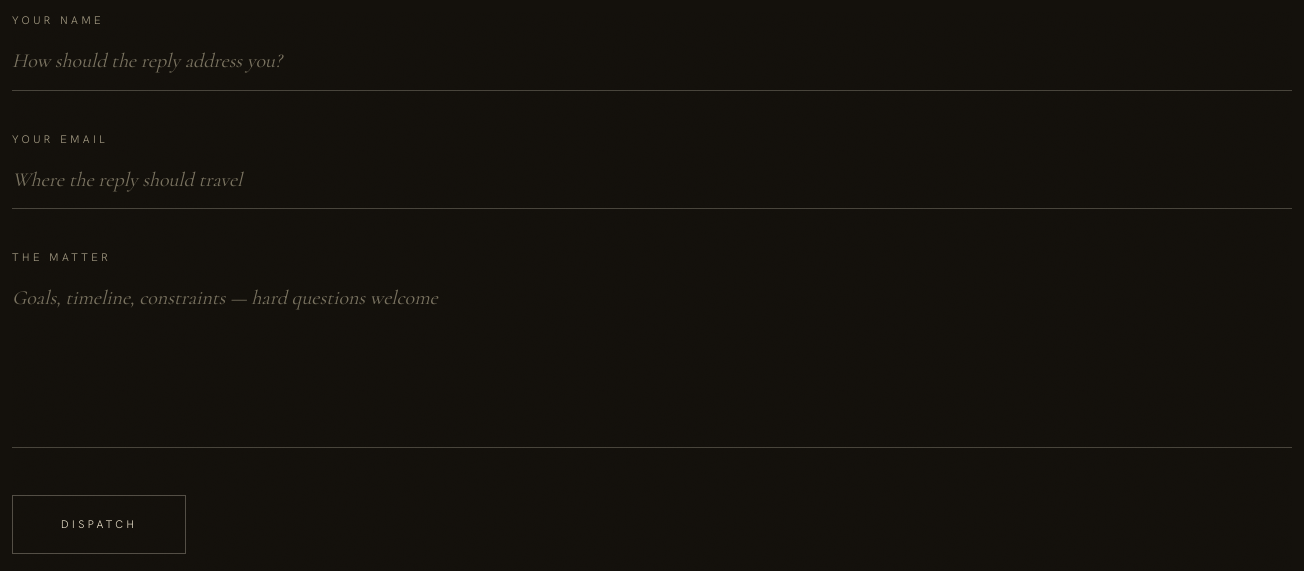
Test: honeypot field › is submitted with the payload so the server can inspect it
The width and height of the screenshot is (1304, 571).
Type "Test Sender" into the field labelled "Your name" at (652, 62), box 12,32 -> 1292,91
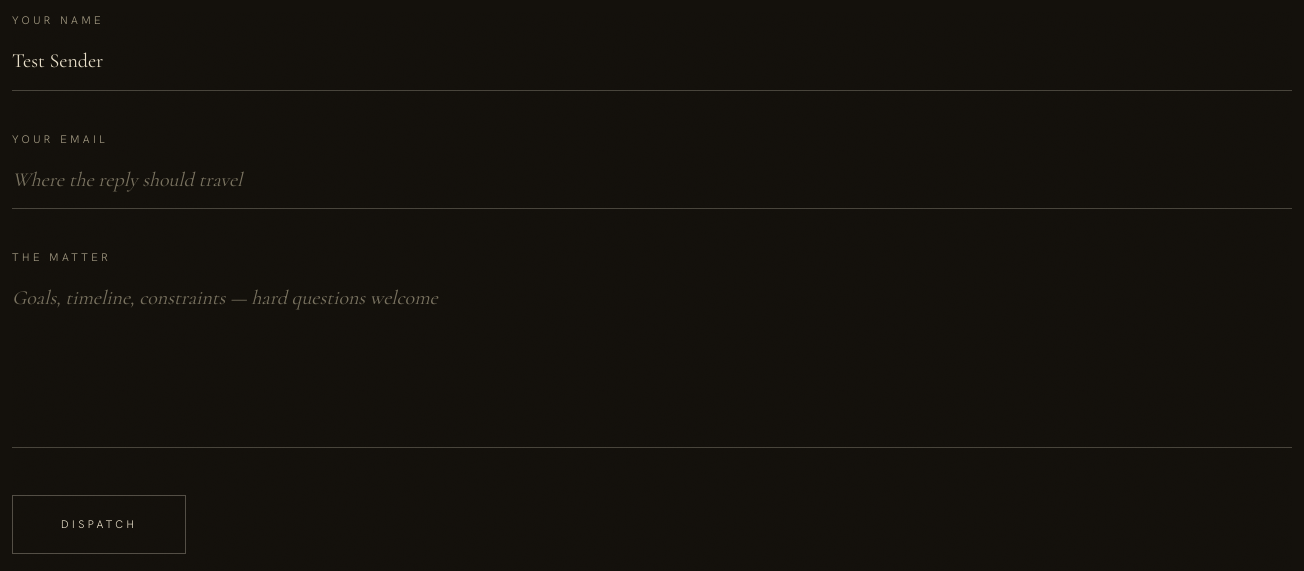
Type "sender@example.com" into the field labelled "Your email" at (652, 180), box 12,151 -> 1292,209
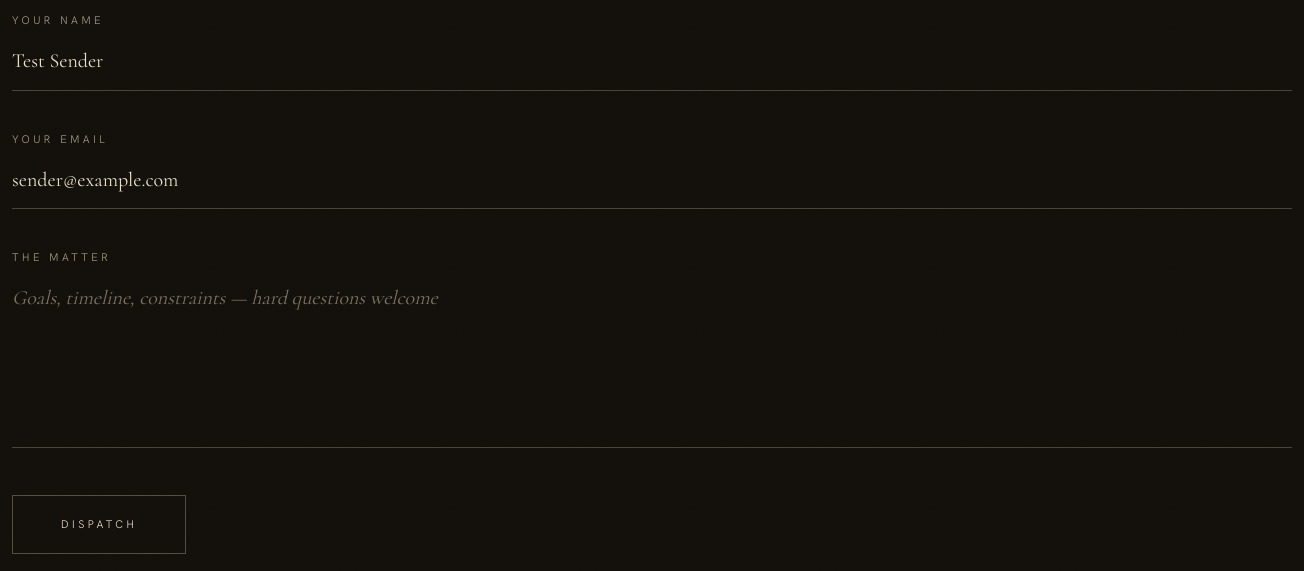
Type "A message long enough to pass validation." into the text box labelled "The matter" at (652, 359), box 12,270 -> 1292,448
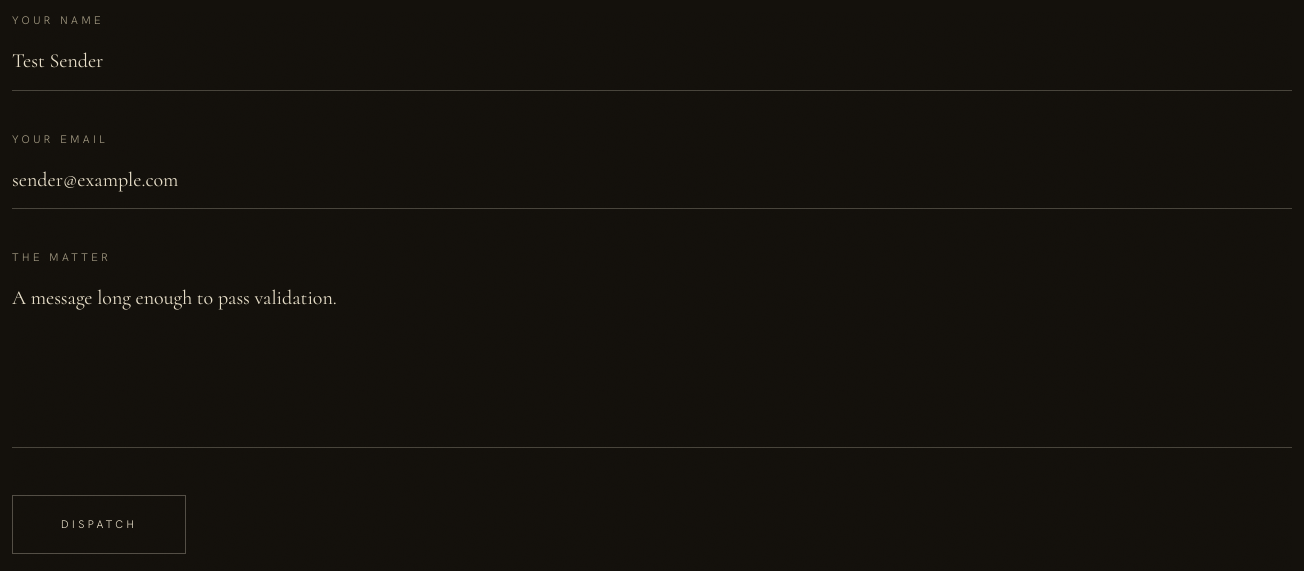
Click the button "Dispatch" at (99, 524), box 12,495 -> 186,554
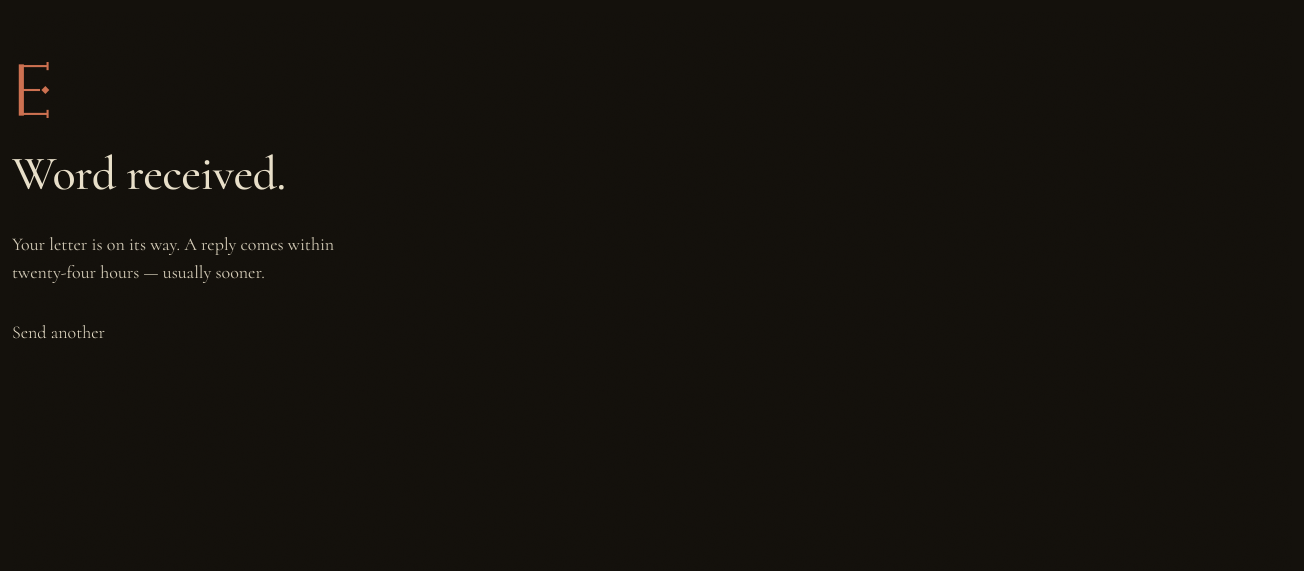
Now the text "Word received." is shown, box 12,150 -> 286,198
